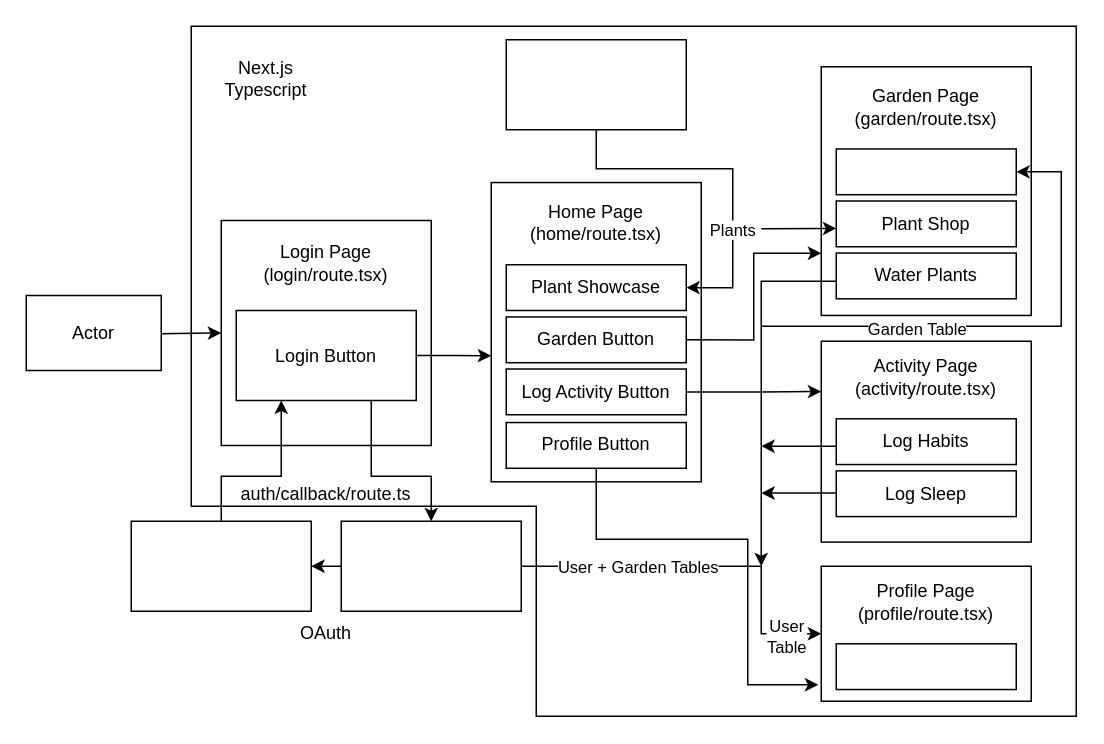
Image size: 1104x744. Some labels were removed from this diagram. The shapes that lost their labels are listed below. From the top down, each one's box as (x1, y1, x2, y2) in pixels, then its label:
(505, 38, 686, 130): Components *.tsx
(835, 147, 1016, 195): Garden View
(130, 520, 311, 611): Google Cloud Platforms
(340, 520, 521, 611): Supabase
(835, 642, 1016, 690): Customize Profile
